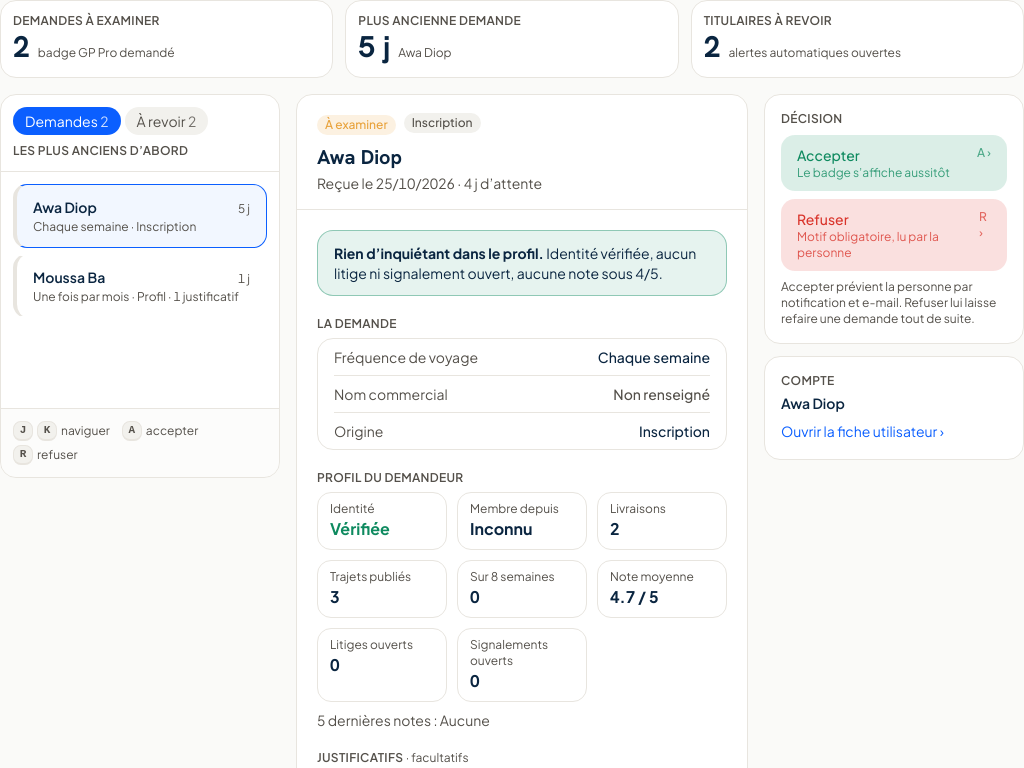
/gp-pro › un conflit à la décision relit la demande sans la vider
The image size is (1024, 768).
Click the button with test id "gp-pro-reject" at (894, 235), box [781,199,1007,271]
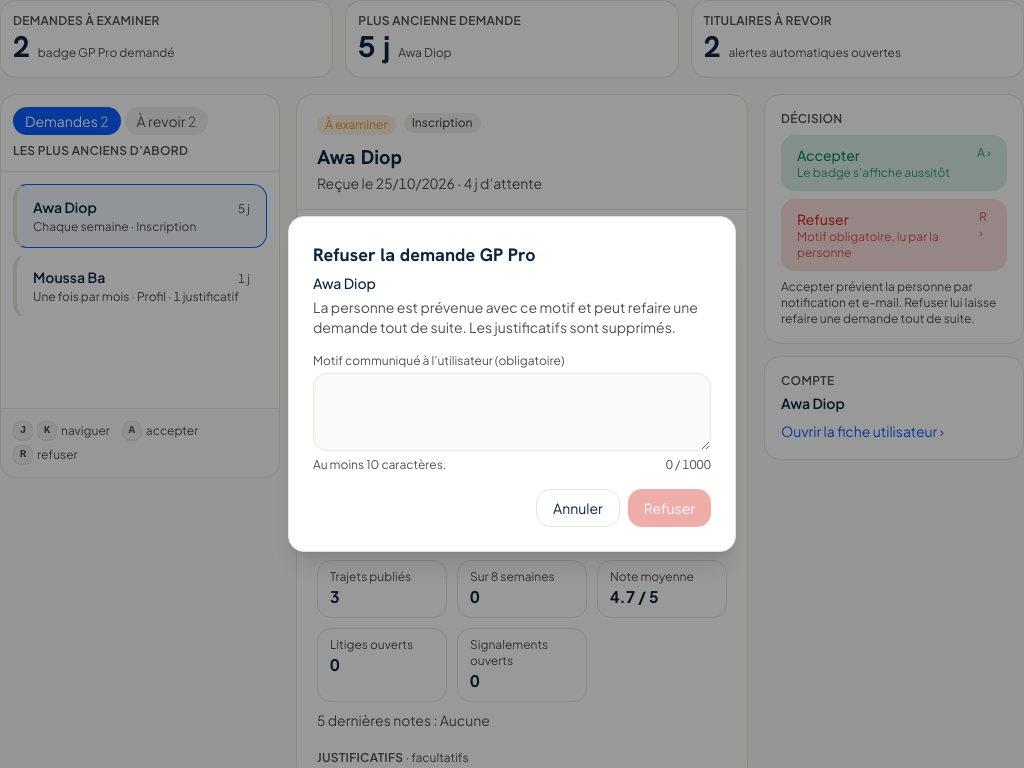
Type "Plusieurs litiges récents" into the text box with test id "gp-pro-text" at (512, 412), box [313,373,711,451]
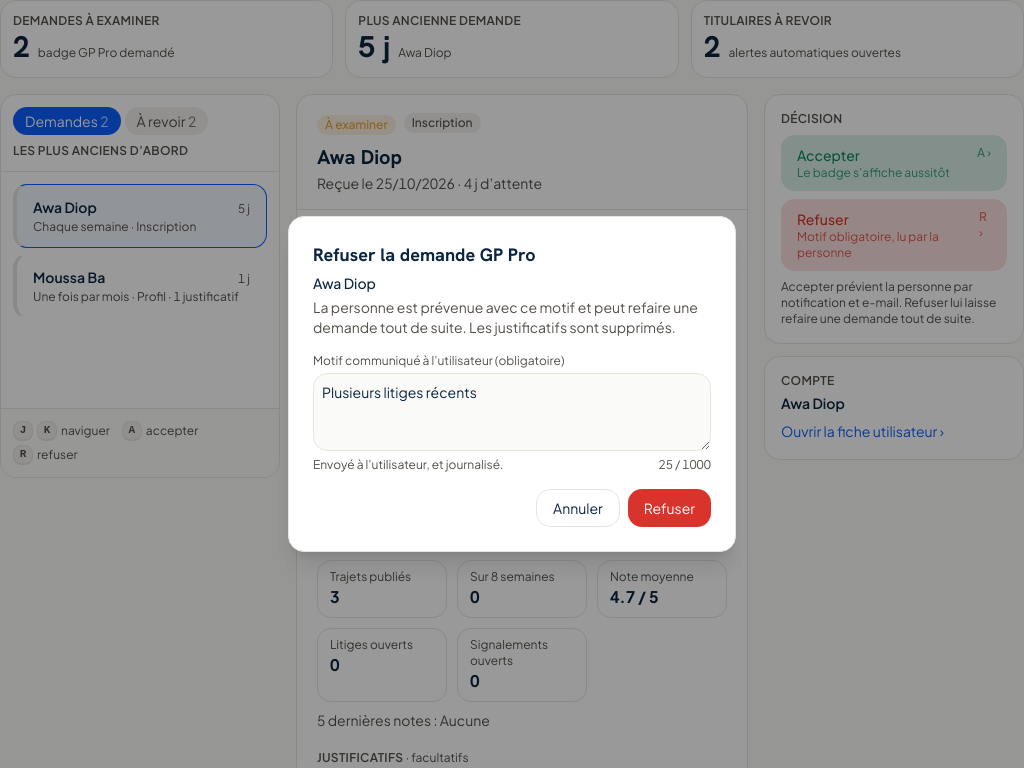
Click the button with test id "gp-pro-dialog-submit" at (669, 508), box [628,489,711,527]
(page scrolled)
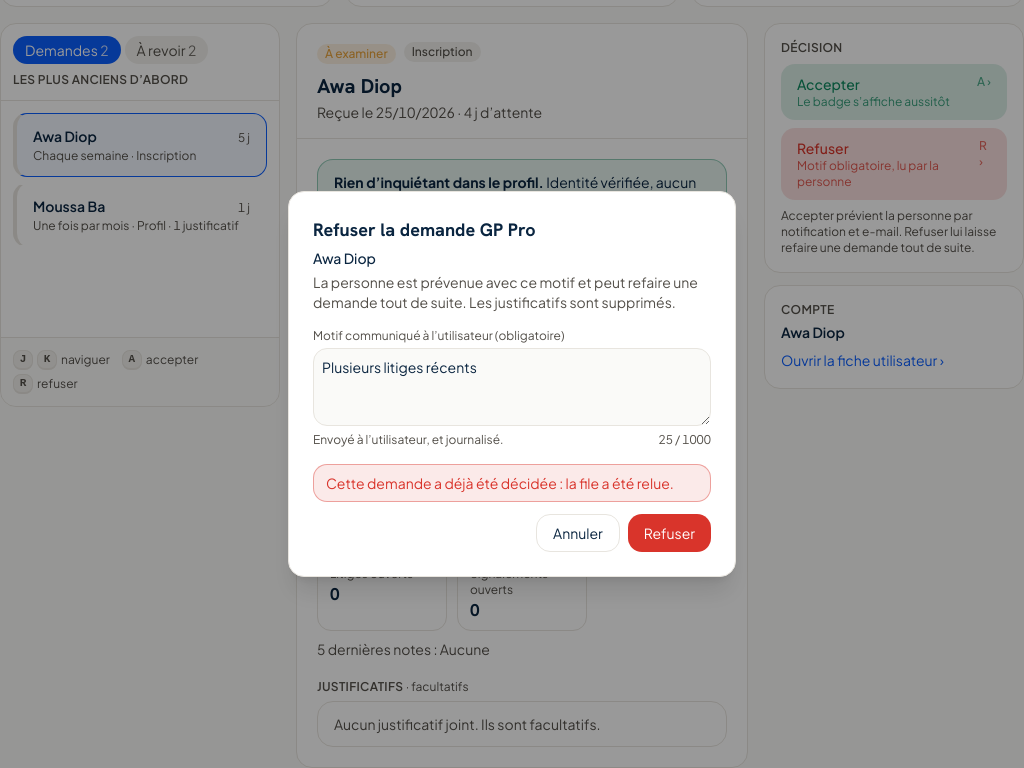
Check: the element with test id "gp-pro-case" is shown, box [296,23,748,767]
Check: the message with test id "gp-pro-dialog-error" shows "déjà été décidée", box [326,474,674,492]
